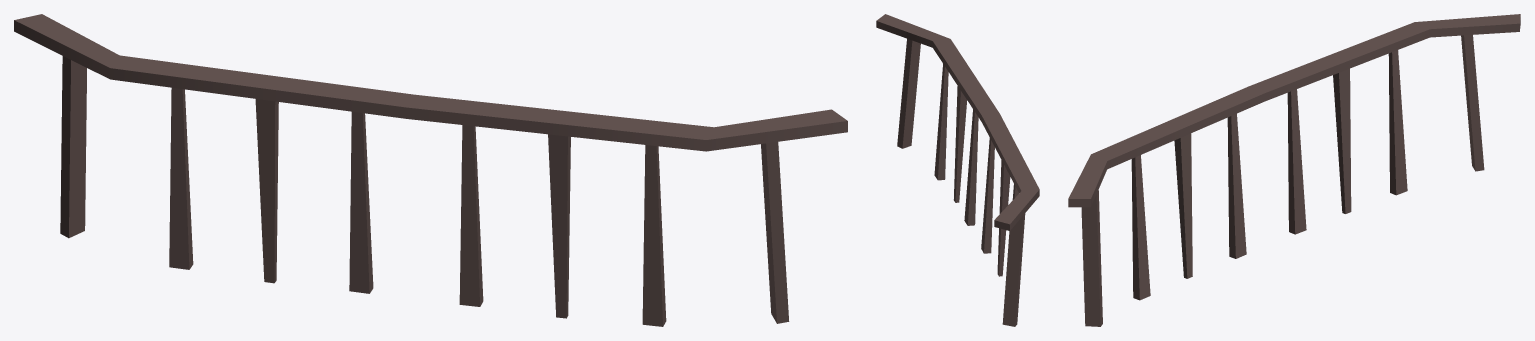
Rendered from Module_Building_Railing_Corner.fbx.
The picture shows the model from 3 angles, left to right: view 1: azimuth 30°, elevation 25°; view 2: azimuth 150°, elevation 25°; view 3: azimuth 270°, elevation 25°; orthographic projection. The views are drawn at different scales.
Visible parts, largest first — view 1: Module_Building_Railing_Corner; view 2: Module_Building_Railing_Corner; view 3: Module_Building_Railing_Corner.
Part boxes in pixels (bbox=[...]): Module_Building_Railing_Corner: bbox=[14, 14, 847, 326]; Module_Building_Railing_Corner: bbox=[876, 14, 1039, 326]; Module_Building_Railing_Corner: bbox=[1068, 14, 1520, 326].
Size of the model in its own units: 192 by 72.5 by 198.
